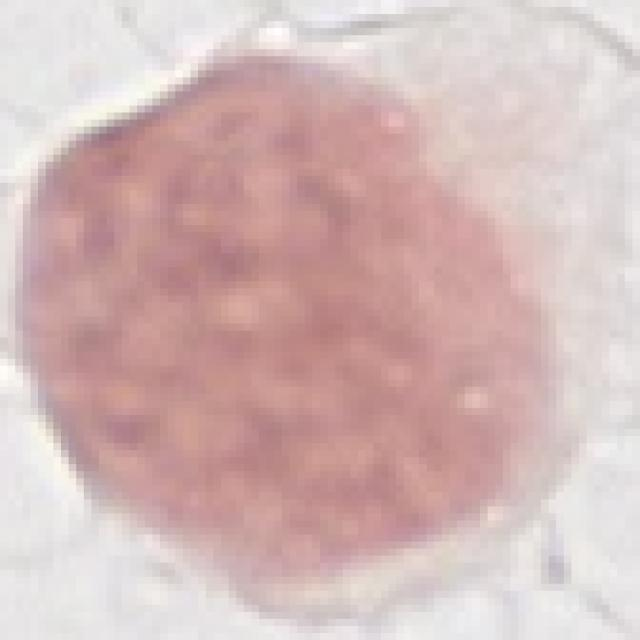cytoplasm: (0, 8, 632, 633)
